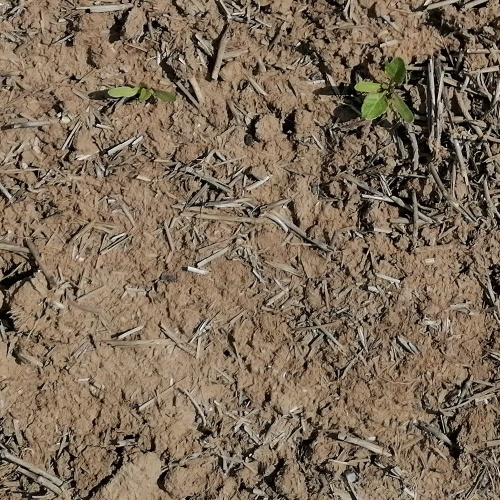beet: (353, 54, 413, 120), (108, 85, 177, 104)
